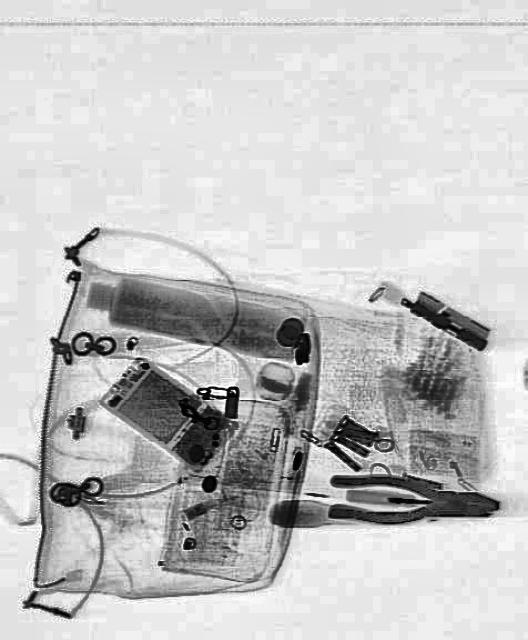Pliers: (327, 469, 499, 528)
